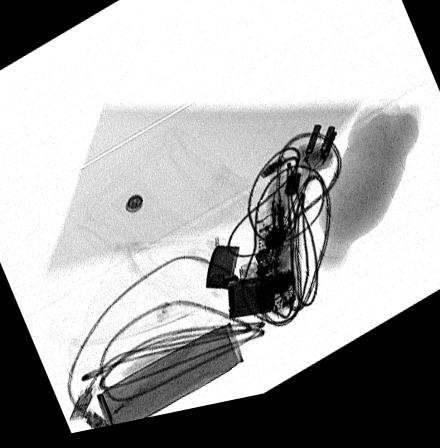Lighter: (203, 253, 275, 328)
